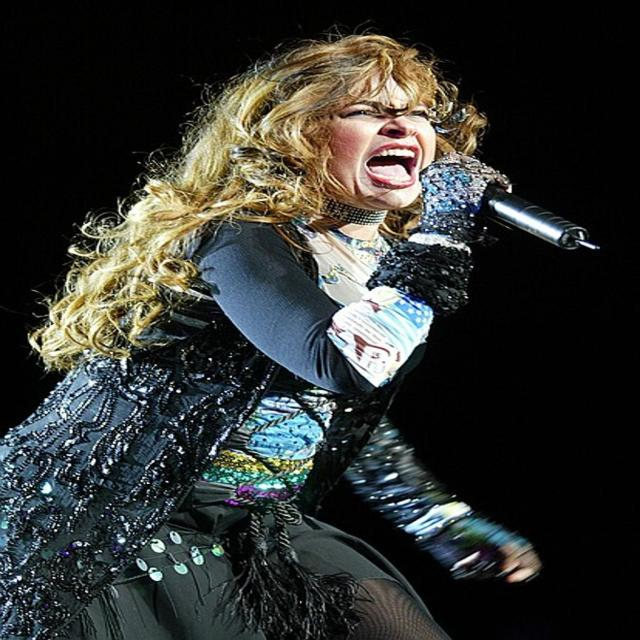Face: (295, 77, 449, 210)
